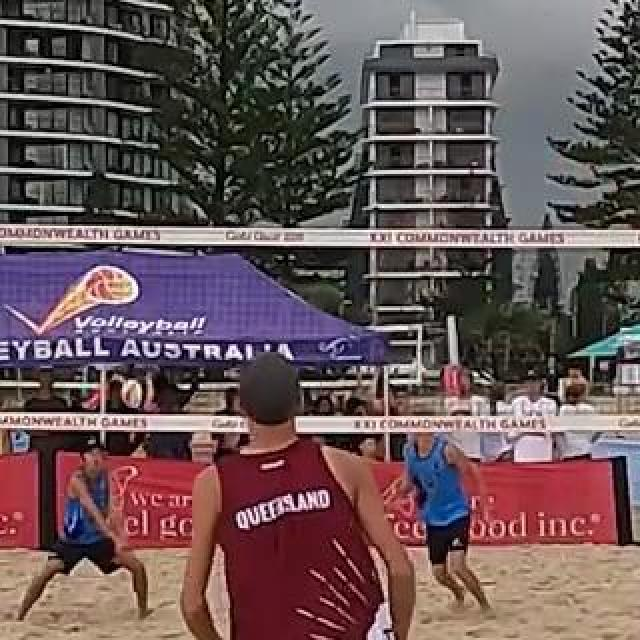volleyball: (121, 375, 155, 409)
